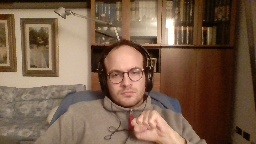Pugno: (129, 108, 170, 142)
